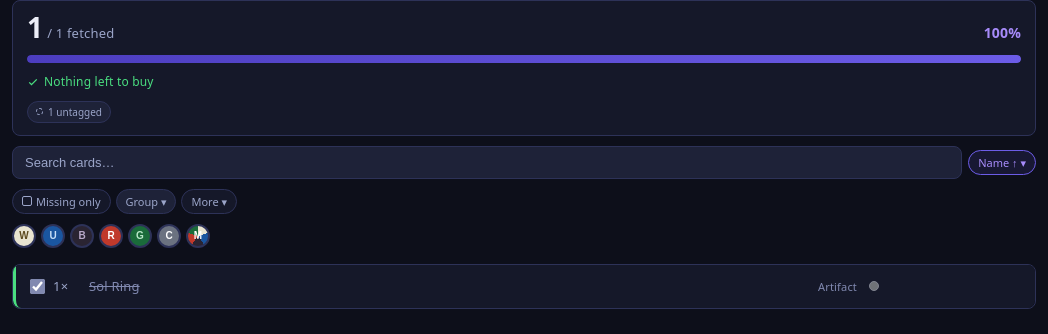
Test: Checklist — filtering, sorting, grouping › shows 'All cards acquired!' when everything is acquired
This screenshot has width=1048, height=334.
Click the button "Missing only" at x=61, y=201, box [12,189,110,214]
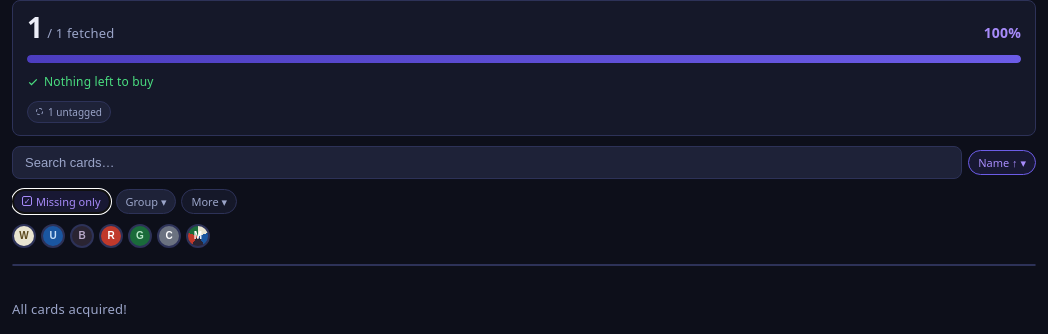
Expected: the text "All cards acquired!" is shown, [12,300,127,318]
